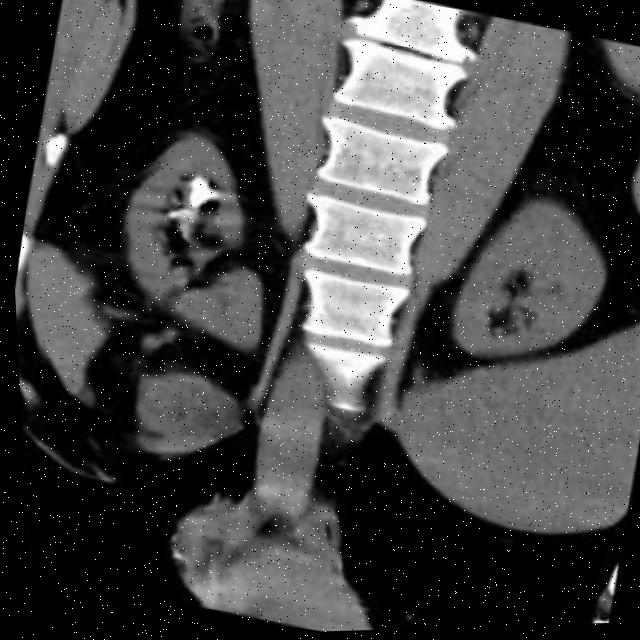Tas_Var: (178, 174, 224, 221), (163, 210, 180, 225)
